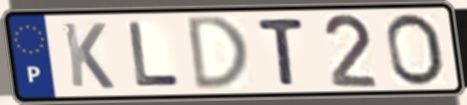2: (323, 12, 379, 89)
D: (185, 14, 252, 93)
K: (59, 20, 117, 92)
L: (126, 19, 183, 90)
O: (383, 11, 449, 88)
T: (254, 16, 307, 88)
